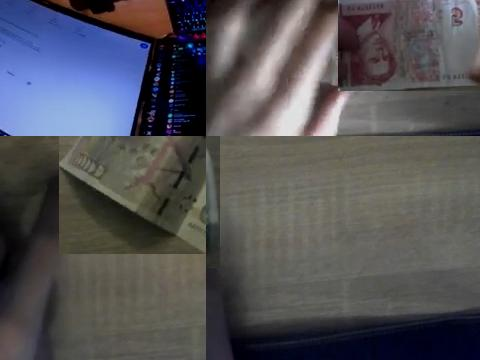10leva: (59, 136, 206, 254)
5leva: (338, 0, 480, 91)
